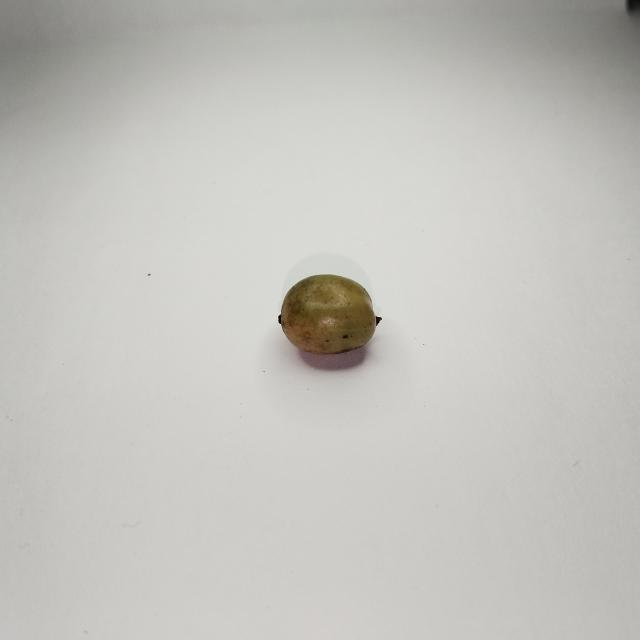Sano: (279, 275, 376, 353)
